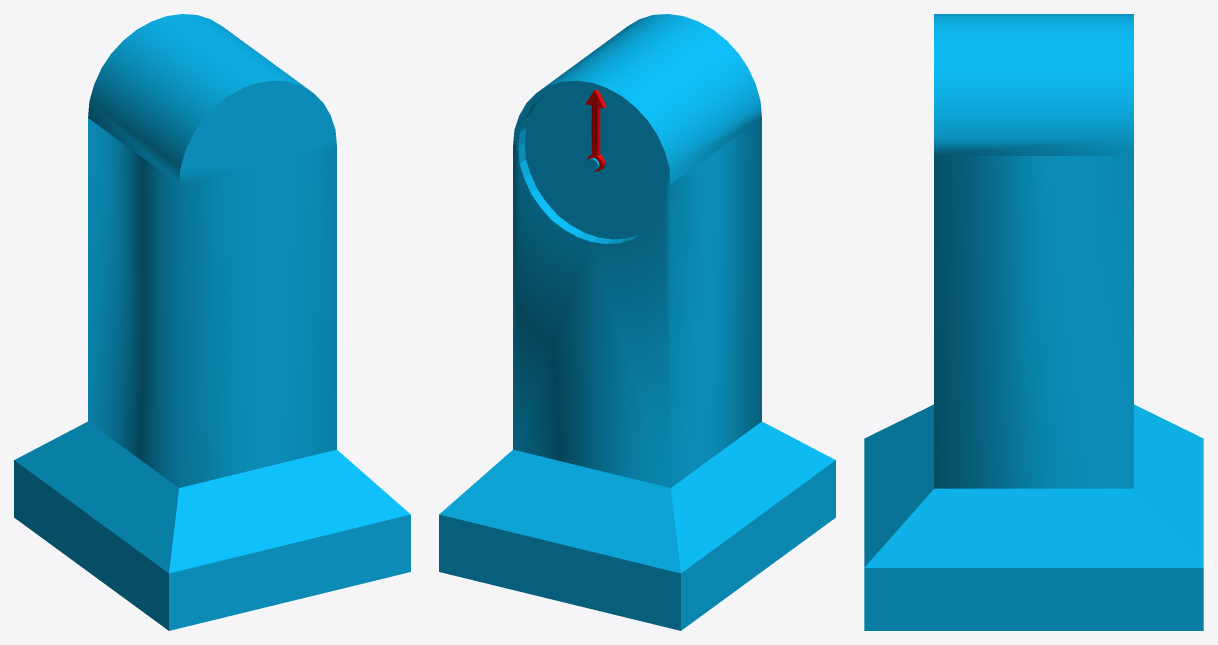
The model's file is ClockTower.FBX.
3 renders of one model, left to right at view 1: azimuth 30°, elevation 25°; view 2: azimuth 150°, elevation 25°; view 3: azimuth 270°, elevation 25°, orthographic. The views are drawn at different scales.
Parts seen in each view (by area): view 1: Clock; view 2: Clock, Pointer; view 3: Clock.
Part boxes in pixels (box(x1,y1,x2,y2)): Clock: box(14, 14, 410, 630); Clock: box(439, 14, 835, 630); Pointer: box(585, 89, 606, 171); Clock: box(864, 14, 1203, 630).
Bounding box in the file's own units: 60.33 × 118 × 66.93.
